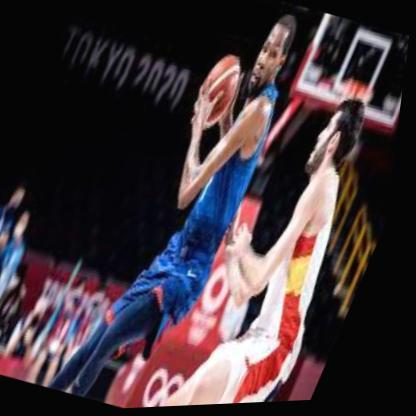basketball: (187, 48, 253, 137)
